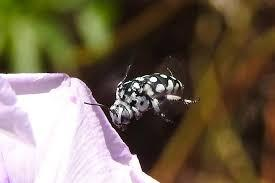Thyreus: (90, 56, 195, 128)
